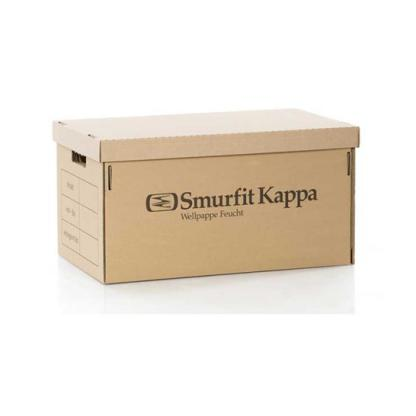box: (49, 104, 362, 286)
